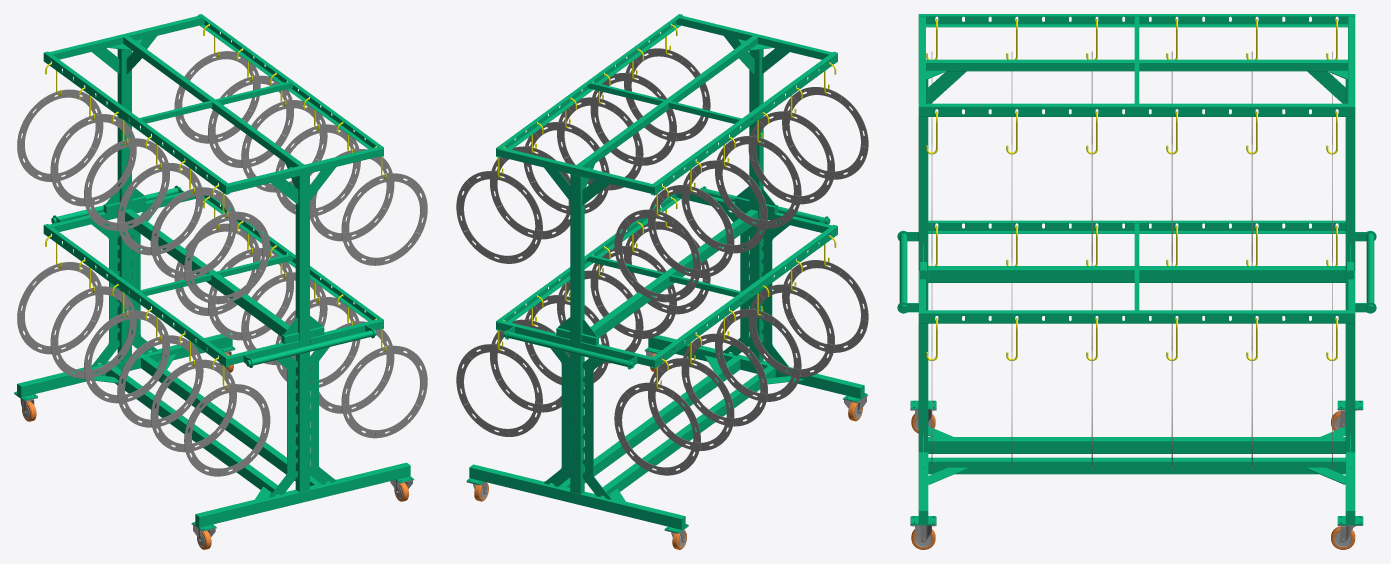
3 views of the same model, side by side, from view 1: azimuth 30°, elevation 25°; view 2: azimuth 150°, elevation 25°; view 3: azimuth 270°, elevation 25° (orthographic). The views are drawn at different scales.
Visible parts, largest first — view 1: 007-1002-1, 007-1007-2, 007-1007-3, 007-1017-3, 007-1007-1, 007-1006-1, 007-1010-1, 007-1001-1, 007-1001-2, 007-1003-2, 007-1002-2, 007-1007-4 (+16 smaller); view 2: 007-1002-2, 007-1007-3, 007-1007-2, 007-1017-2, 007-1007-1, 007-1006-1, 007-1001-1, 007-1010-1, 007-1001-2, 007-1003-4, 007-1002-1, 007-1007-4 (+18 smaller); view 3: 007-1001-2, 007-1001-1, 007-1006-1, 007-1007-1, 007-1007-4, 007-1007-2, 007-1007-3, 007-1010-1, 007-1017-2, 007-1017-3, 007-1003-4, 007-1003-2 (+6 smaller).
Boxes of the visible parts, bbox=[...] form: 007-1002-1: bbox=[196, 463, 409, 527]; 007-1007-2: bbox=[43, 51, 229, 194]; 007-1007-3: bbox=[43, 224, 229, 367]; 007-1017-3: bbox=[295, 173, 309, 340]; 007-1007-1: bbox=[198, 14, 383, 157]; 007-1006-1: bbox=[125, 209, 289, 336]; 007-1010-1: bbox=[123, 36, 303, 167]; 007-1001-1: bbox=[106, 366, 286, 494]; 007-1001-2: bbox=[141, 355, 319, 485]; 007-1003-2: bbox=[295, 338, 309, 492]; 007-1002-2: bbox=[18, 333, 231, 396]; 007-1007-4: bbox=[202, 187, 383, 329]; 007-1002-2: bbox=[470, 464, 684, 529]; 007-1007-3: bbox=[650, 224, 837, 368]; 007-1007-2: bbox=[651, 51, 837, 195]; 007-1017-2: bbox=[570, 174, 584, 342]; 007-1007-1: bbox=[496, 14, 682, 157]; 007-1006-1: bbox=[590, 209, 757, 337]; 007-1001-1: bbox=[594, 366, 775, 496]; 007-1010-1: bbox=[576, 36, 757, 167]; 007-1001-2: bbox=[560, 357, 740, 487]; 007-1003-4: bbox=[570, 340, 584, 494]; 007-1002-1: bbox=[648, 335, 863, 398]; 007-1007-4: bbox=[496, 194, 680, 330]; 007-1001-2: bbox=[928, 457, 1345, 474]; 007-1001-1: bbox=[928, 437, 1345, 453]; 007-1006-1: bbox=[928, 266, 1345, 282]; 007-1007-1: bbox=[918, 103, 1355, 116]; 007-1007-4: bbox=[918, 310, 1355, 323]; 007-1007-2: bbox=[918, 14, 1355, 27]; 007-1007-3: bbox=[928, 220, 1345, 233]; 007-1010-1: bbox=[926, 59, 1347, 71]; 007-1017-2: bbox=[1345, 79, 1355, 270]; 007-1017-3: bbox=[918, 79, 928, 270]; 007-1003-4: bbox=[1345, 271, 1355, 452]; 007-1003-2: bbox=[918, 271, 928, 452].
Bounding box in the file's own units: 1.39 × 1.96 × 1.97.
